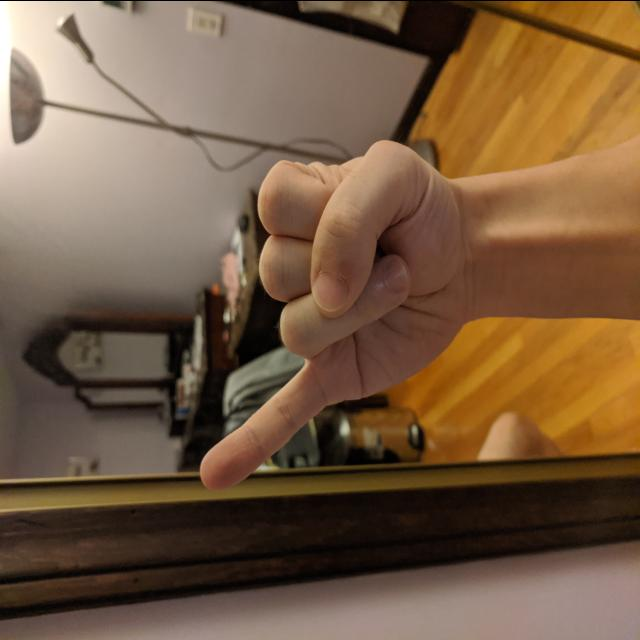I: (193, 134, 477, 498)
